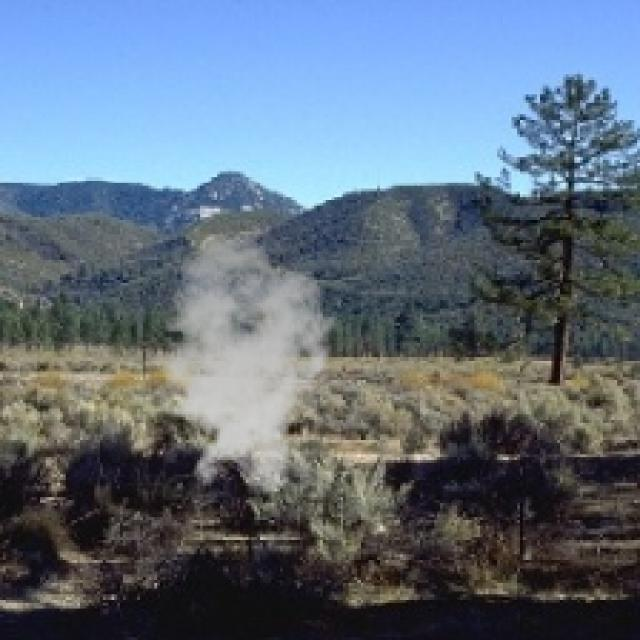smoke: (140, 232, 343, 497)
